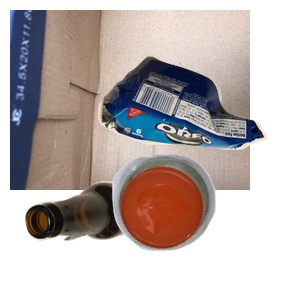cardboard: (10, 10, 250, 190)
glass: (23, 179, 183, 300)
plastic: (110, 152, 300, 300)
trash: (95, 53, 300, 195)
